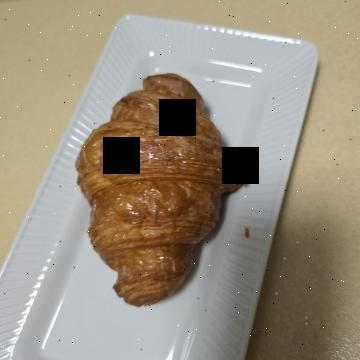croissant: (74, 111, 324, 301)
